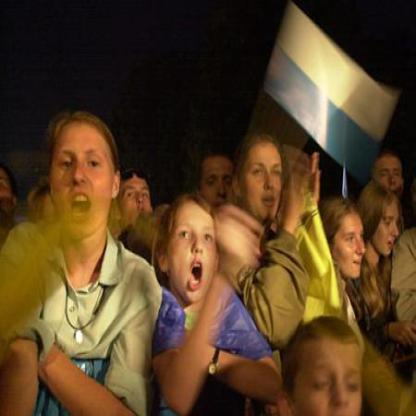face: (54, 114, 115, 241), (168, 193, 220, 305), (241, 135, 288, 225), (331, 202, 372, 282), (202, 154, 239, 222), (372, 193, 404, 258), (120, 173, 156, 229), (375, 154, 405, 208)
